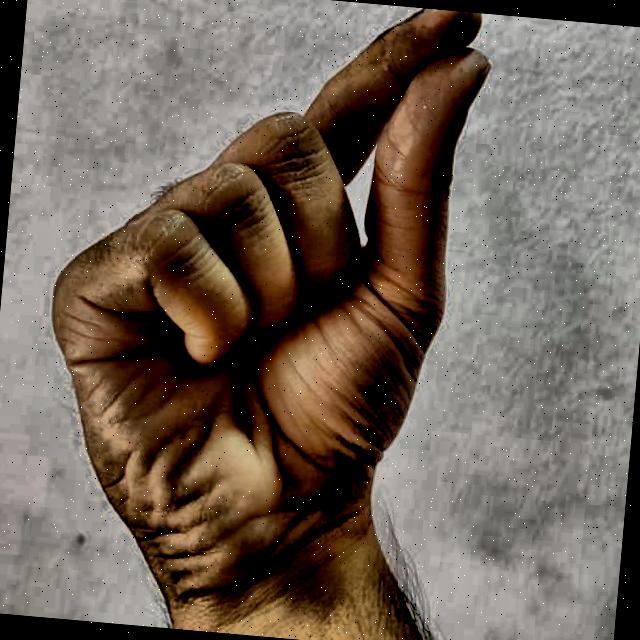Anusshar: (15, 0, 518, 638)
